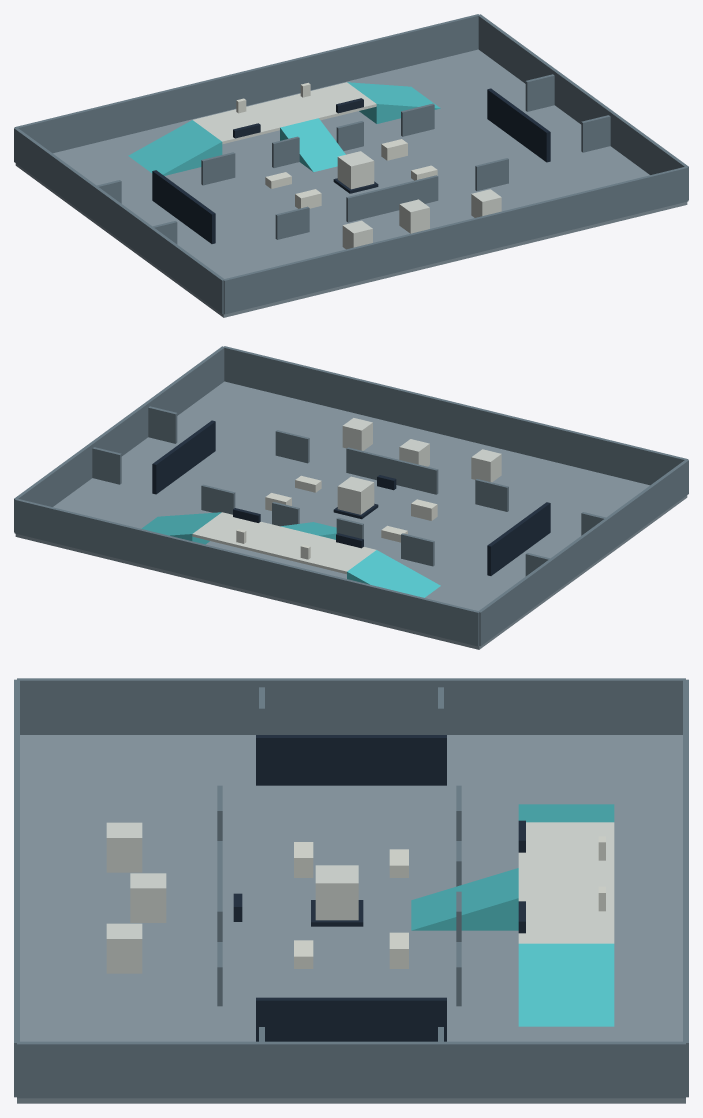
Rendered from station_collision.glb.
3 views of the same model, one above another, from view 1: azimuth 30°, elevation 25°; view 2: azimuth 150°, elevation 25°; view 3: azimuth 270°, elevation 25° (orthographic). The views are drawn at different scales.
Parts seen in each view (by area): view 1: COL_floor_station, COL_wall_south, COL_wall_north, COL_wall_west, COL_wall_east, COL_gallery_deck, COL_ramp_gallery_west, COL_south_court_screen, COL_west_spawn_screen, COL_east_spawn_screen, COL_ramp_gallery_central, COL_ramp_gallery_east (+13 smaller); view 2: COL_floor_station, COL_wall_north, COL_wall_south, COL_wall_west, COL_wall_east, COL_gallery_deck, COL_south_court_screen, COL_ramp_gallery_west, COL_west_spawn_screen, COL_east_spawn_screen, COL_ramp_gallery_east, COL_reactor_core (+12 smaller); view 3: COL_floor_station, COL_wall_east, COL_wall_west, COL_gallery_deck, COL_west_spawn_screen, COL_east_spawn_screen, COL_ramp_gallery_east, COL_ramp_gallery_central, COL_reactor_core, COL_wall_north, COL_wall_south, COL_lab_pod_10 (+5 smaller).
Boxes of the visible parts, x1,y1,x2,y2 form: COL_floor_station: (15, 49, 687, 317); COL_wall_south: (223, 167, 688, 314); COL_wall_north: (14, 14, 478, 153); COL_wall_west: (14, 128, 223, 314); COL_wall_east: (478, 14, 688, 200); COL_gallery_deck: (193, 82, 376, 144); COL_ramp_gallery_west: (128, 120, 222, 175); COL_south_court_screen: (346, 175, 438, 222); COL_west_spawn_screen: (152, 170, 215, 243); COL_east_spawn_screen: (487, 88, 550, 162); COL_ramp_gallery_central: (280, 118, 345, 172); COL_ramp_gallery_east: (347, 82, 440, 123); COL_floor_station: (15, 381, 687, 649); COL_wall_north: (14, 499, 479, 646); COL_wall_south: (224, 346, 688, 485); COL_wall_west: (479, 460, 688, 646); COL_wall_east: (14, 346, 224, 532); COL_gallery_deck: (192, 512, 375, 574); COL_south_court_screen: (346, 447, 438, 494); COL_ramp_gallery_west: (347, 550, 440, 597); COL_west_spawn_screen: (487, 502, 550, 575); COL_east_spawn_screen: (152, 420, 215, 494); COL_ramp_gallery_east: (141, 512, 221, 544); COL_reactor_core: (337, 476, 374, 514); COL_floor_station: (17, 735, 685, 1103); COL_wall_east: (17, 1041, 685, 1098); COL_wall_west: (17, 678, 685, 734); COL_gallery_deck: (518, 822, 614, 943); COL_west_spawn_screen: (256, 735, 446, 785); COL_east_spawn_screen: (256, 997, 446, 1041); COL_ramp_gallery_east: (518, 943, 614, 1026); COL_ramp_gallery_central: (411, 868, 518, 930); COL_reactor_core: (315, 865, 358, 920); COL_wall_north: (683, 679, 688, 1097); COL_wall_south: (14, 679, 19, 1097); COL_lab_pod_10: (106, 923, 142, 973).
Size of the model in its own units: 72.5 by 5.6 by 56.5.
